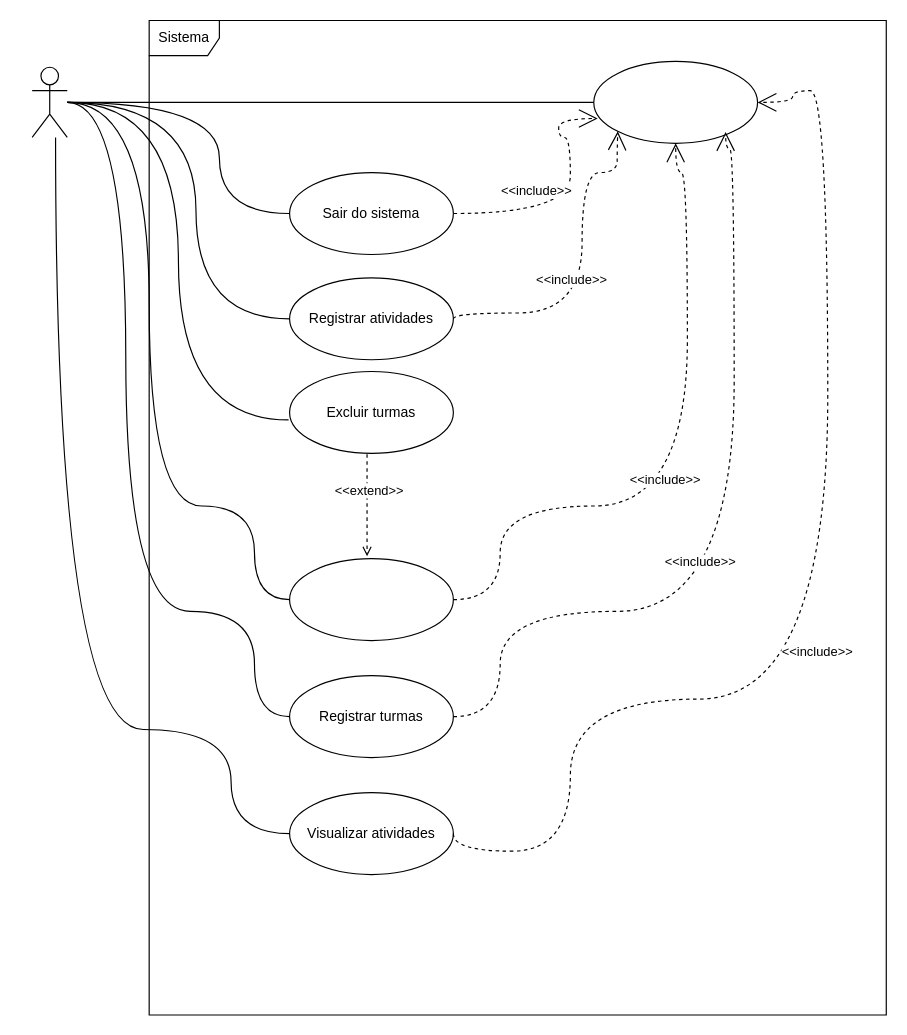
This 907x1035 diagram has some shape labels left out. Each missing label, with the centre of its shape:
"Autentificar-se no sistema" belongs at (x=675, y=101).
"Professor" belongs at (x=49, y=101).
"Visualizar turmas" belongs at (x=370, y=599).
